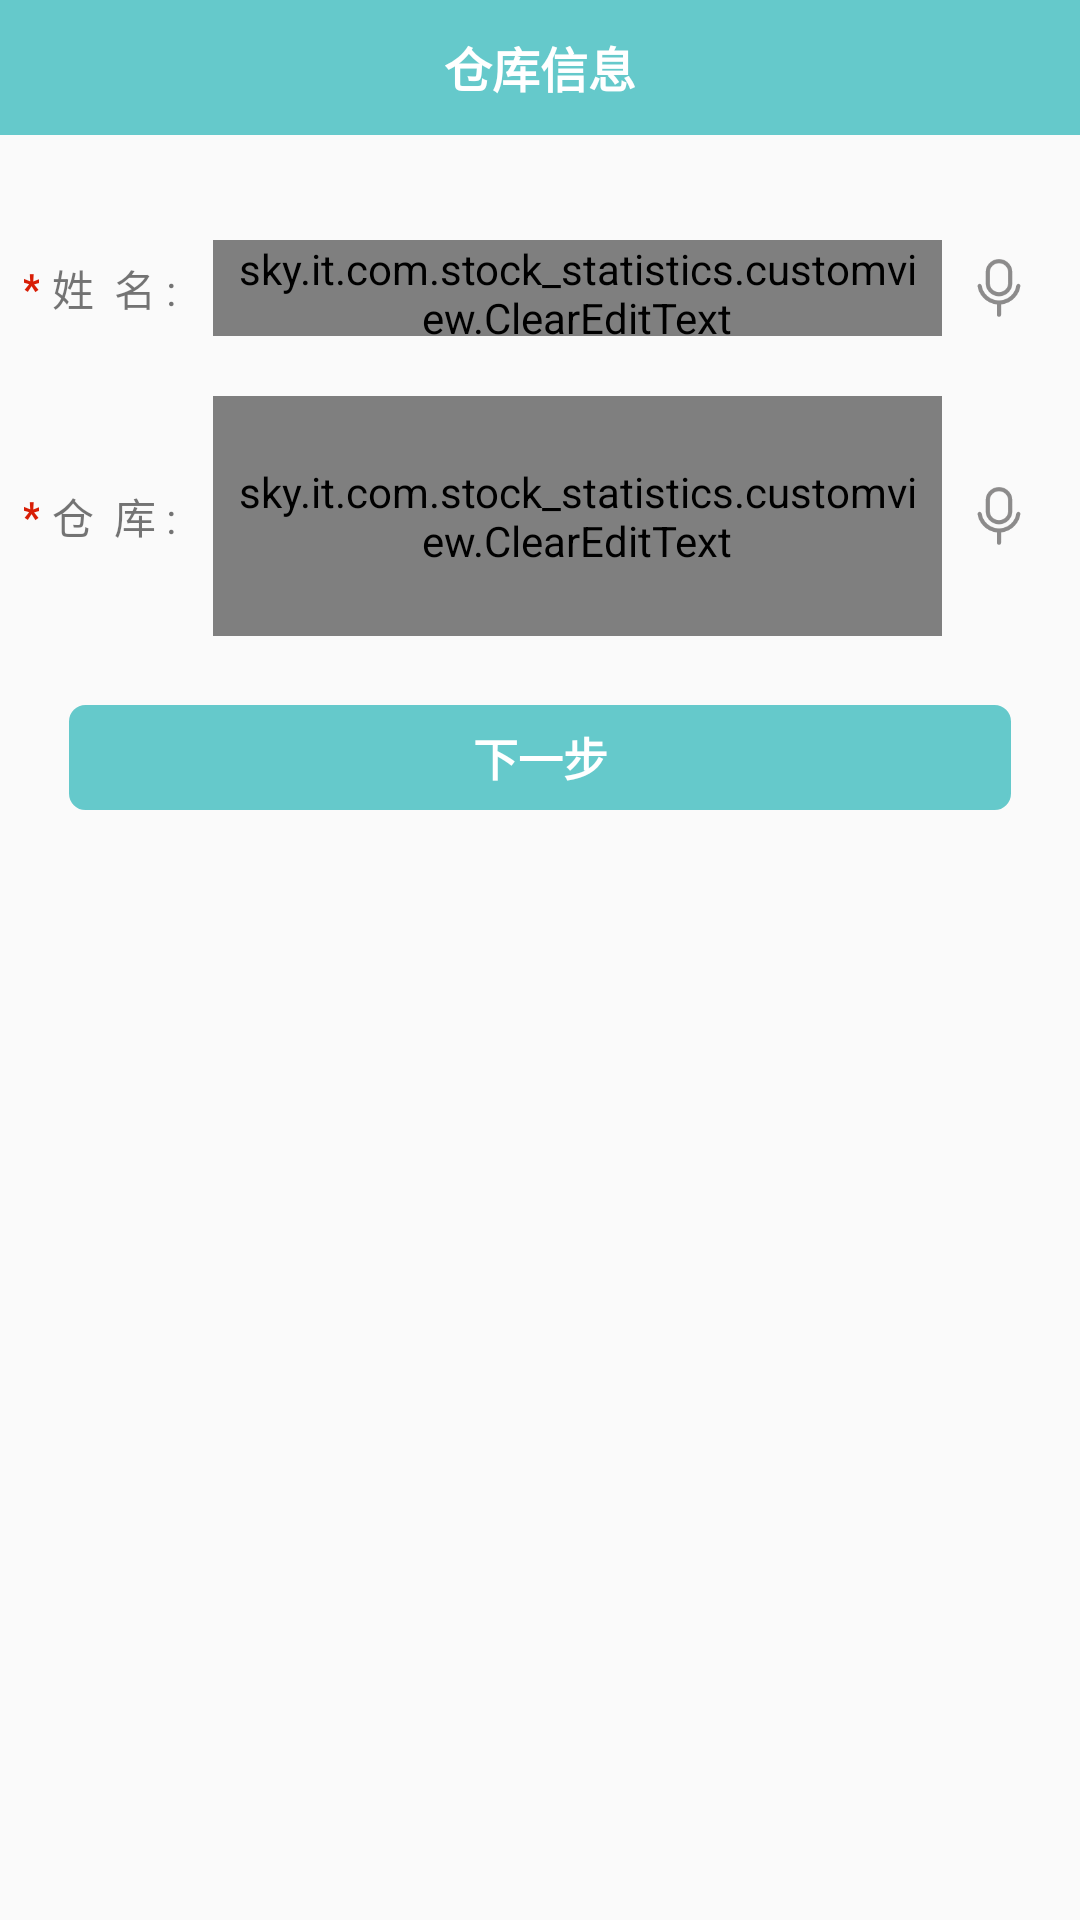

Where to tap for icons on this 1080×1920 app screen, as (x=x, y=y):
record unuse: (x=999, y=288), (x=999, y=516)
